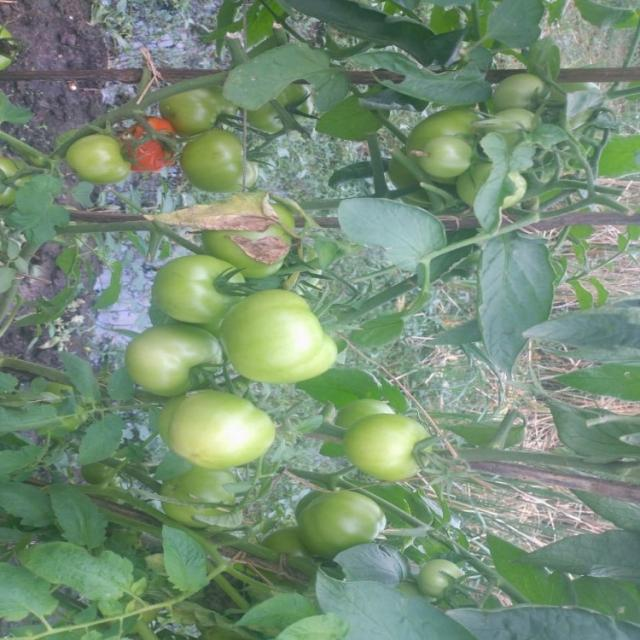tomato: (230, 292, 350, 401), (134, 312, 255, 407), (161, 381, 288, 471), (293, 486, 423, 572), (143, 246, 252, 342), (213, 179, 322, 270), (133, 79, 238, 158), (336, 406, 437, 483), (387, 97, 466, 187), (172, 136, 281, 197), (105, 109, 194, 171), (69, 121, 128, 194), (325, 388, 400, 439), (484, 70, 544, 120), (423, 548, 461, 595)
